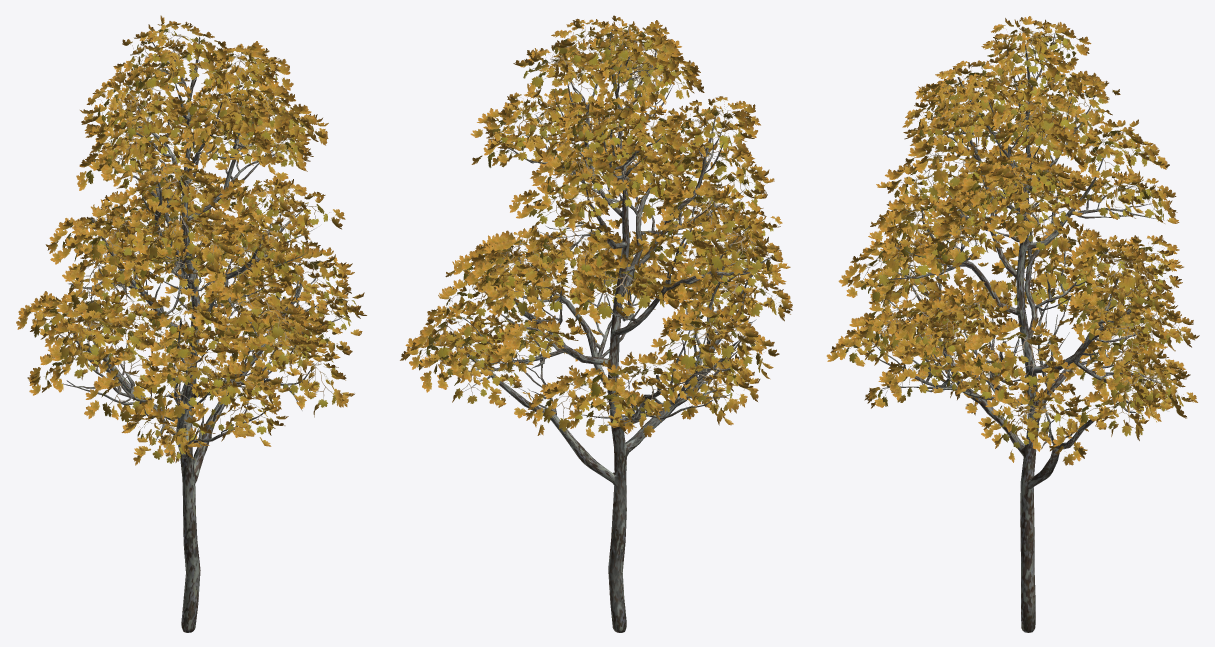
The model's file is lib.glb.
The picture shows the model from 3 angles, left to right: view 1: azimuth 30°, elevation 25°; view 2: azimuth 150°, elevation 25°; view 3: azimuth 270°, elevation 25°; orthographic projection.
Parts seen in each view (by area): view 1: treeC_leafs_Platano_227, treeC_treetop_platano_230, treeC_leafs_Platano_228, treeC_Platano_Trunk_229; view 2: treeC_leafs_Platano_227, treeC_treetop_platano_230, treeC_Platano_Trunk_229, treeC_leafs_Platano_228; view 3: treeC_leafs_Platano_227, treeC_treetop_platano_230, treeC_leafs_Platano_228, treeC_Platano_Trunk_229.
Boxes of the visible parts, x1,y1,x2,y2 form: treeC_leafs_Platano_227: (16,15,333,462); treeC_treetop_platano_230: (33,28,356,463); treeC_leafs_Platano_228: (84,188,366,465); treeC_Platano_Trunk_229: (50,37,344,632); treeC_leafs_Platano_227: (422,15,792,437); treeC_treetop_platano_230: (418,26,776,433); treeC_Platano_Trunk_229: (439,30,775,632); treeC_leafs_Platano_228: (400,131,790,432); treeC_leafs_Platano_227: (838,16,1199,465); treeC_treetop_platano_230: (845,27,1183,448); treeC_leafs_Platano_228: (826,191,1197,462); treeC_Platano_Trunk_229: (865,32,1166,632).
Bounding box in the file's own units: 347 × 643 × 363.
Materials: 19 (17 with a texture image).
